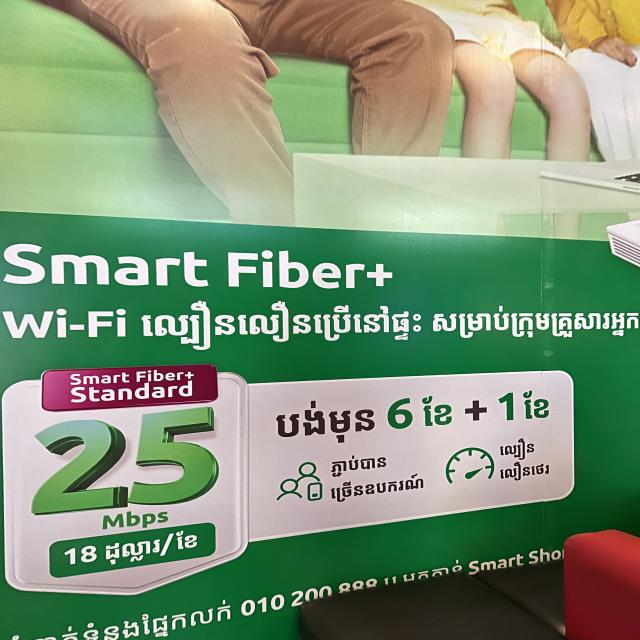1: (139, 300, 639, 355)
164: (262, 373, 559, 452)
617: (48, 525, 209, 578)
Yolov11kh: (328, 471, 425, 505), (318, 449, 392, 479), (489, 430, 541, 462), (494, 459, 552, 483)
